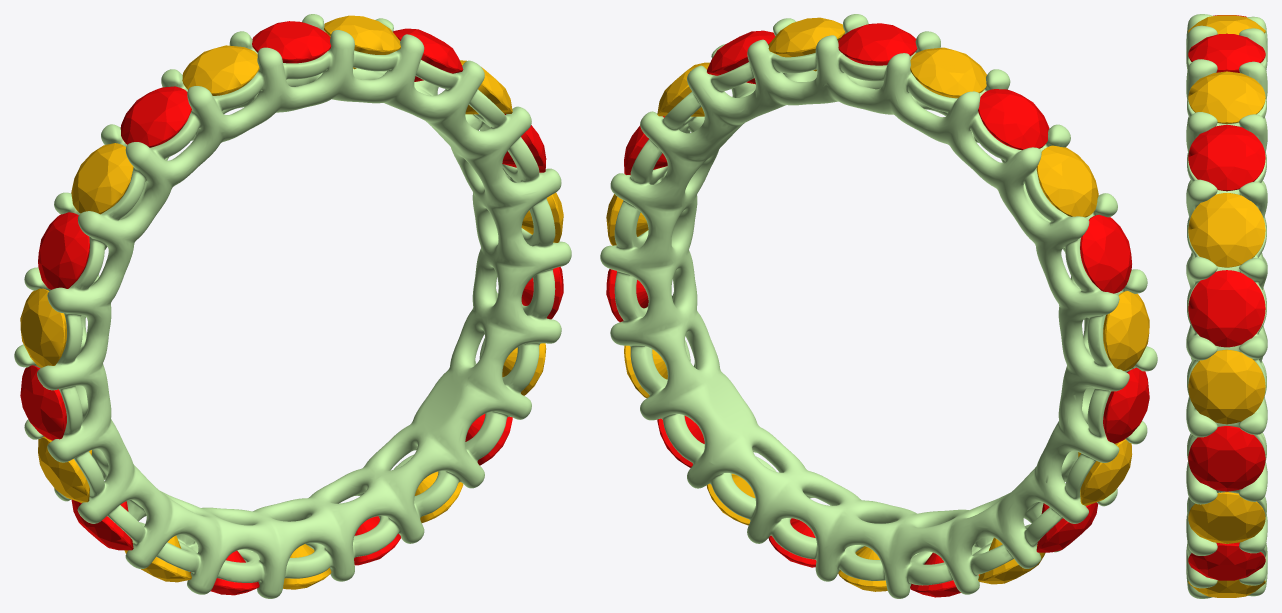
Rendered from TCC-RN-CR-32185-Round-Eternity-10.glb.
3 renders of one model, left to right at view 1: azimuth 30°, elevation 25°; view 2: azimuth 150°, elevation 25°; view 3: azimuth 270°, elevation 25°, orthographic. The views are drawn at different scales.
Visible parts, largest first — view 1: Metal03, Diamond Band02.009, Diamond Band01.009, Diamond Band01.008, Diamond Band02.010, Diamond Band02.008, Diamond Band01.010, Diamond Band01.007, Diamond Band02.001, Diamond Band02.007, Diamond Band01, Diamond Band01.006 (+4 smaller); view 2: Metal03, Diamond Band02.009, Diamond Band01.009, Diamond Band01.008, Diamond Band02.010, Diamond Band02.008, Diamond Band01.010, Diamond Band01.007, Diamond Band02.001, Diamond Band02.007, Diamond Band01, Diamond Band01.006 (+4 smaller); view 3: Metal03, Diamond Band01.001, Diamond Band02.002, Diamond Band02.003, Diamond Band01, Diamond Band01.002, Diamond Band02.001, Diamond Band02.004, Diamond Band01.010, Diamond Band01.003, Diamond Band02.010, Diamond Band02.005.
Part boxes in pixels (x1=…): Metal03: x1=14, y1=14, x2=571, y2=598; Diamond Band02.009: x1=71, y1=143, x2=133, y2=214; Diamond Band01.009: x1=120, y1=86, x2=191, y2=147; Diamond Band01.008: x1=38, y1=212, x2=89, y2=289; Diamond Band02.010: x1=182, y1=45, x2=259, y2=95; Diamond Band02.008: x1=20, y1=288, x2=66, y2=367; Diamond Band01.010: x1=252, y1=21, x2=331, y2=63; Diamond Band01.007: x1=20, y1=365, x2=66, y2=440; Diamond Band02.001: x1=324, y1=15, x2=400, y2=69; Diamond Band02.007: x1=38, y1=436, x2=91, y2=502; Diamond Band01: x1=393, y1=28, x2=463, y2=81; Diamond Band01.006: x1=71, y1=499, x2=133, y2=550; Metal03: x1=600, y1=14, x2=1157, y2=598; Diamond Band02.009: x1=1036, y1=145, x2=1098, y2=217; Diamond Band01.009: x1=978, y1=89, x2=1049, y2=149; Diamond Band01.008: x1=1080, y1=214, x2=1131, y2=293; Diamond Band02.010: x1=910, y1=47, x2=986, y2=98; Diamond Band02.008: x1=1103, y1=290, x2=1149, y2=370; Diamond Band01.010: x1=838, y1=23, x2=917, y2=65; Diamond Band01.007: x1=1103, y1=367, x2=1149, y2=443; Diamond Band02.001: x1=768, y1=17, x2=845, y2=71; Diamond Band02.007: x1=1078, y1=439, x2=1132, y2=505; Diamond Band01: x1=707, y1=30, x2=775, y2=84; Diamond Band01.006: x1=1036, y1=502, x2=1098, y2=552; Metal03: x1=1186, y1=14, x2=1267, y2=598; Diamond Band01.001: x1=1188, y1=270, x2=1265, y2=347; Diamond Band02.002: x1=1188, y1=193, x2=1265, y2=267; Diamond Band02.003: x1=1188, y1=349, x2=1265, y2=424; Diamond Band01: x1=1188, y1=124, x2=1265, y2=191; Diamond Band01.002: x1=1188, y1=426, x2=1265, y2=491; Diamond Band02.001: x1=1188, y1=71, x2=1265, y2=123; Diamond Band02.004: x1=1188, y1=492, x2=1265, y2=543; Diamond Band01.010: x1=1188, y1=33, x2=1265, y2=72; Diamond Band01.003: x1=1188, y1=542, x2=1265, y2=580; Diamond Band02.010: x1=1188, y1=15, x2=1265, y2=34; Diamond Band02.005: x1=1188, y1=579, x2=1265, y2=597.
Bounding box in the file's own units: 23.11 × 23.05 × 3.22.
